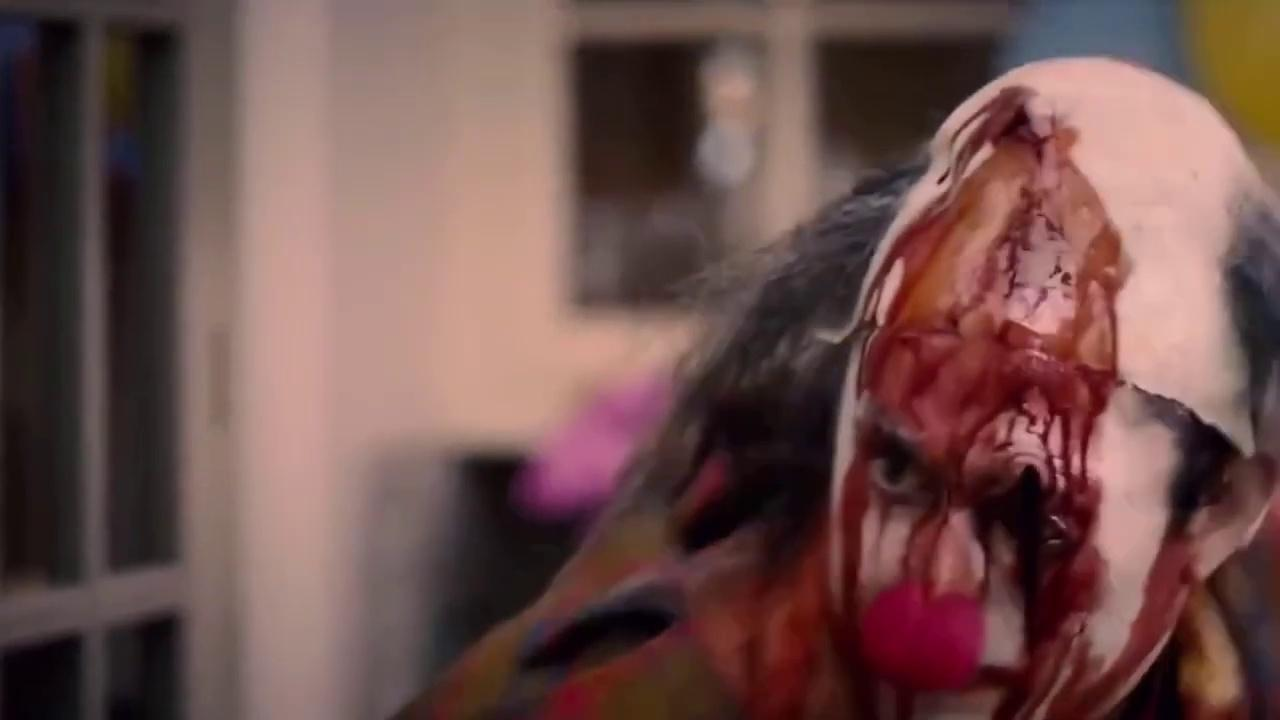Fire: (833, 86, 1129, 717), (1087, 537, 1197, 718)
